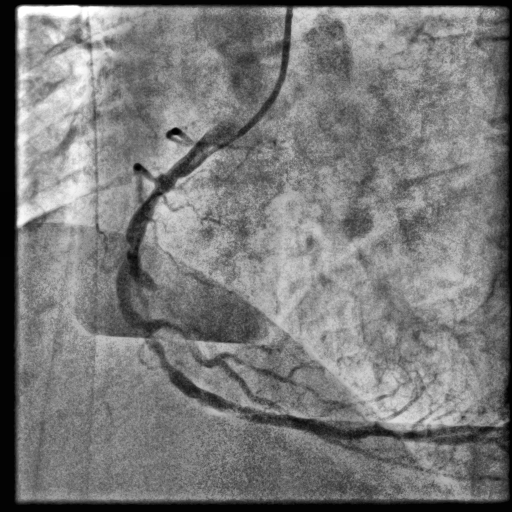pborca: (292, 416, 481, 439)
pda: (290, 423, 502, 482)
rca: (116, 117, 291, 427)
